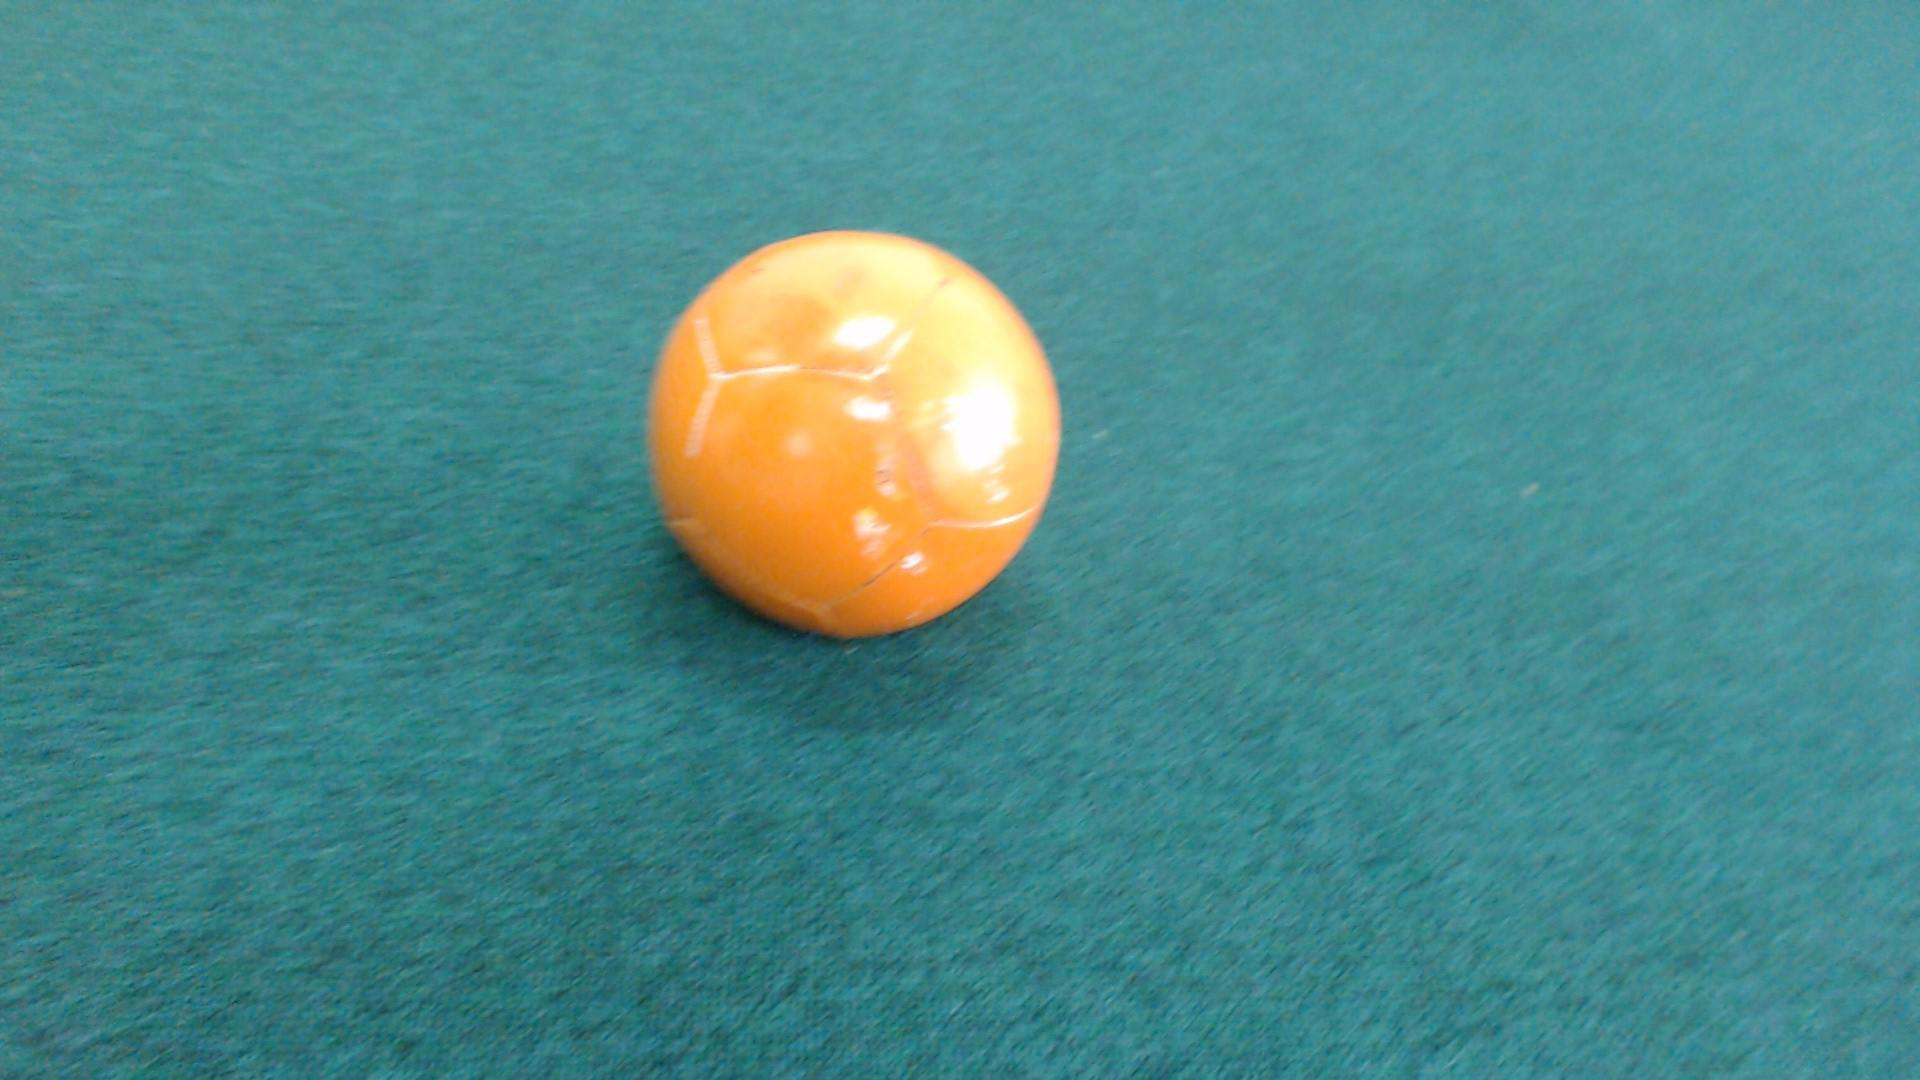bola: (628, 195, 1073, 659)
